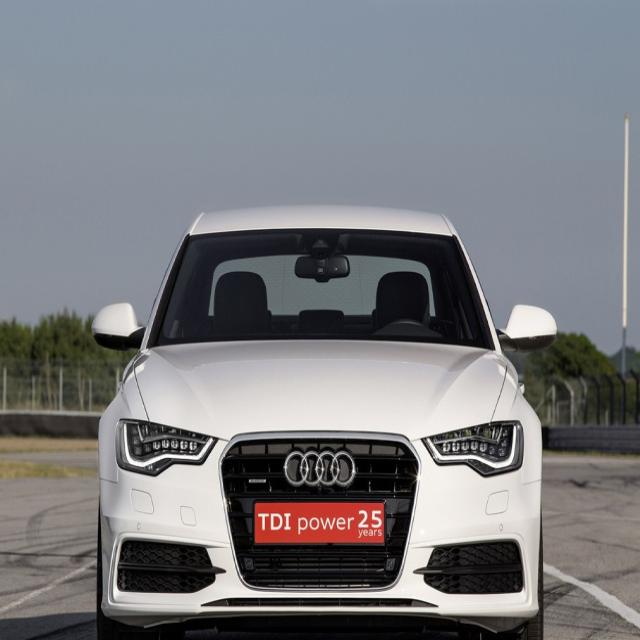front_bumper: (100, 495, 541, 616)
front_glass: (152, 232, 496, 353)
front_left_side_light: (422, 420, 524, 480)
front_left_side_mirror: (496, 304, 558, 354)
front_right_side_light: (115, 417, 219, 478)
front_right_side_mirror: (91, 302, 144, 351)
